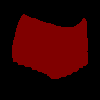mutande: (12, 13, 88, 79)
